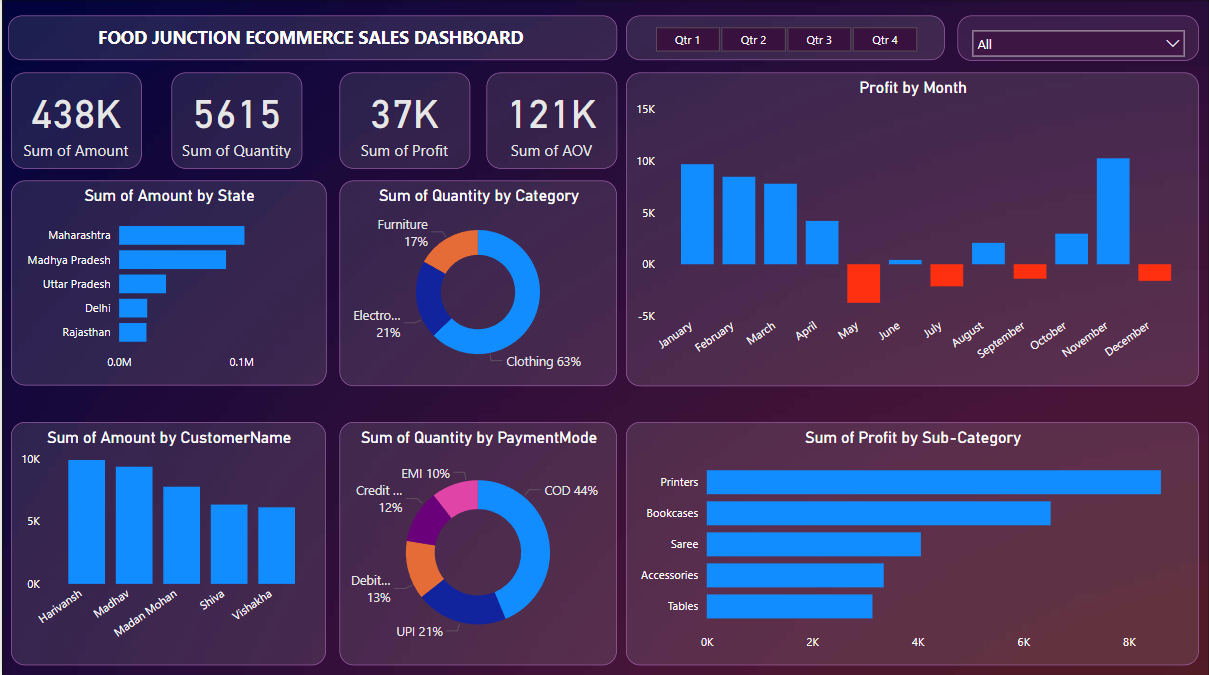

Layout of this report page (visuals, bound fields, positions):
{"tool":"powerbi","page":{"name":"Page 1","canvas":[1280,720],"ordinal":0},"visuals":[{"type":"textbox","box":[5.7,17,646.3,47.2],"z":0},{"type":"columnChart","title":"Profit by Month","fields":{"Y":["Details.Profit"],"Category":["Orders.Order Date.Variation.Date Hierarchy.Month"]},"box":[661.7,77.9,607.6,332.4],"z":1000},{"type":"barChart","fields":{"Category":["Details.Sub-Category"],"Y":["Details.Profit"]},"box":[661.7,448.6,607.6,257.7],"z":2000},{"type":"donutChart","fields":{"Category":["Details.Category"],"Y":["Details.Quantity"]},"box":[357.9,192.5,294.3,217.9],"z":3000},{"type":"donutChart","fields":{"Y":["Details.Quantity"],"Category":["Details.PaymentMode"]},"box":[357.9,448.6,294.3,257.7],"z":4000},{"type":"card","fields":{"Values":["Details.Amount"]},"box":[9.5,77.9,138.4,101.8],"z":5000},{"type":"card","fields":{"Values":["Details.Quantity"]},"box":[179.7,77.9,138.4,101.8],"z":6000},{"type":"card","fields":{"Values":["Details.Profit"]},"box":[357.9,77.9,138.4,101.8],"z":7000},{"type":"card","fields":{"Values":["Details.AOV"]},"box":[513.8,77.9,138.4,101.8],"z":8000},{"type":"barChart","fields":{"Category":["Orders.State"],"Y":["Details.Amount"]},"box":[9.4,192.8,334.5,217.3],"z":9000},{"type":"columnChart","fields":{"Category":["Orders.CustomerName"],"Y":["Details.Amount"]},"box":[9,449,334,258],"z":10000},{"type":"slicer","fields":{"Values":["Orders.Order Date.Variation.Date Hierarchy.Quarter"]},"box":[661.4,17,338.3,47.2],"z":11000},{"type":"slicer","fields":{"Values":["Orders.State"]},"box":[1013.2,17.5,256.1,47.7],"z":12000}]}

Visuals, with their boxes in screenshot pixels (x1, y1, x2, y2), scaled from the page's 1280x720 canvas onto the 1209x675 screenshot:
textbox: box=[5, 16, 616, 60]
"Profit by Month" columnChart: box=[625, 73, 1199, 385]
barChart - Details.Sub-Category x Details.Profit: box=[625, 421, 1199, 662]
donutChart - Details.Category x Details.Quantity: box=[338, 180, 616, 385]
donutChart - Details.Quantity x Details.PaymentMode: box=[338, 421, 616, 662]
card - Details.Amount: box=[9, 73, 140, 168]
card - Details.Quantity: box=[170, 73, 300, 168]
card - Details.Profit: box=[338, 73, 469, 168]
card - Details.AOV: box=[485, 73, 616, 168]
barChart - Orders.State x Details.Amount: box=[9, 181, 325, 384]
columnChart - Orders.CustomerName x Details.Amount: box=[9, 421, 324, 663]
slicer - Orders.Order Date.Variation.Date Hierarchy.Quarter: box=[625, 16, 944, 60]
slicer - Orders.State: box=[957, 16, 1199, 61]
